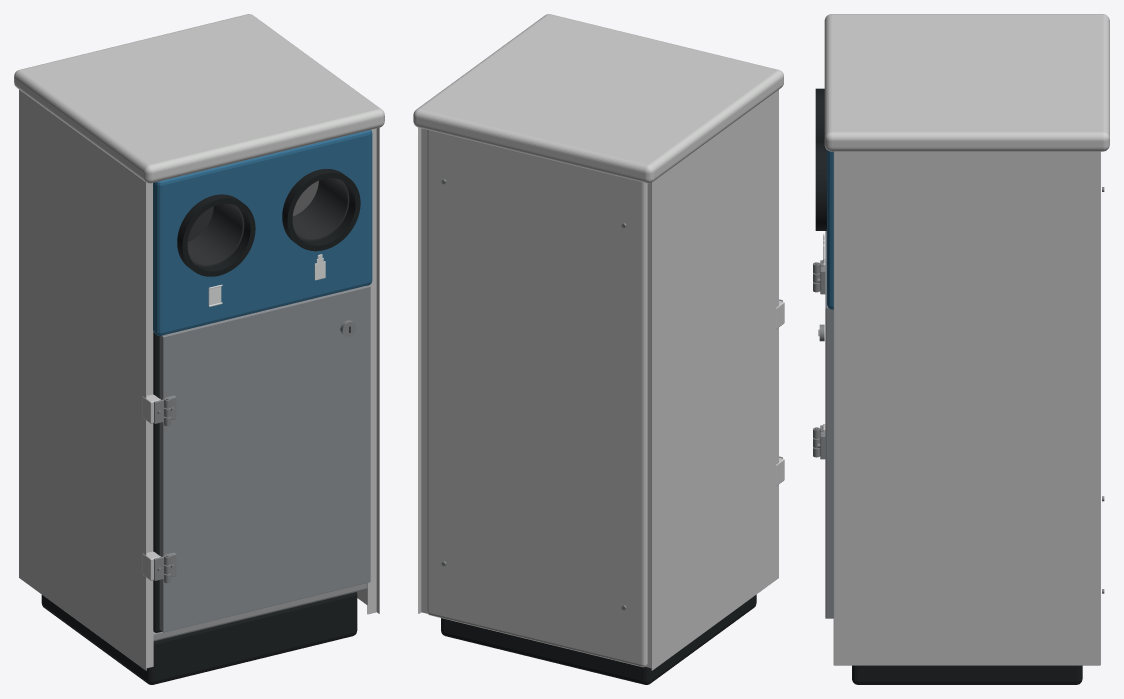
File: public_recycling_bin.glb
The picture shows the model from 3 angles, left to right: view 1: azimuth 30°, elevation 25°; view 2: azimuth 150°, elevation 25°; view 3: azimuth 270°, elevation 25°; orthographic projection. The views are drawn at different scales.
Visible parts, largest first — view 1: Two millimetre folded side sheet, Two millimetre painted door skin, Weather cap, Blue sorting aperture fascia, Recessed plinth, Side sheet folded return, Side sheet folded return.002, Two millimetre folded side sheet.001, Deep insertion chute.001, Deep insertion chute, Rounded insertion collar, Rounded insertion collar.001 (+3 smaller); view 2: Rear cabinet panel, Two millimetre folded side sheet, Weather cap, Recessed plinth, Side sheet folded return.001, Side sheet folded return.003, Two millimetre folded side sheet.001; view 3: Two millimetre folded side sheet.001, Weather cap, Recessed plinth, Door folded vertical return.001, Blue sorting aperture fascia, Rounded insertion collar.001, Two millimetre painted door skin, Rounded insertion collar, Side sheet folded return.002.
Part boxes in pixels (x1,y1,x2,y2): Two millimetre folded side sheet: (19,89,146,670); Two millimetre painted door skin: (163,286,370,632); Weather cap: (14,14,384,183); Blue sorting aperture fascia: (153,130,372,335); Recessed plinth: (41,592,357,684); Side sheet folded return: (146,183,153,668); Side sheet folded return.002: (367,128,376,614); Two millimetre folded side sheet.001: (292,127,379,613); Deep insertion chute.001: (292,178,349,241); Deep insertion chute: (187,203,244,266); Rounded insertion collar: (177,194,255,276); Rounded insertion collar.001: (282,169,360,251); Rear cabinet panel: (426,129,647,667); Two millimetre folded side sheet: (651,90,778,670); Weather cap: (413,14,783,183); Recessed plinth: (441,594,756,684); Side sheet folded return.001: (646,180,654,668); Side sheet folded return.003: (421,128,426,613); Two millimetre folded side sheet.001: (418,127,421,613); Two millimetre folded side sheet.001: (833,151,1100,665); Weather cap: (824,14,1109,151); Recessed plinth: (852,665,1082,684); Door folded vertical return.001: (826,306,833,618); Blue sorting aperture fascia: (827,150,833,309); Rounded insertion collar.001: (815,142,826,230); Two millimetre painted door skin: (825,231,826,618); Rounded insertion collar: (815,88,824,142); Side sheet folded return.002: (839,153,839,665).
Size of the model in its own units: 0.48 by 1.02 by 0.489.
